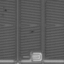dust: (3, 8, 8, 13), (30, 29, 35, 33)
